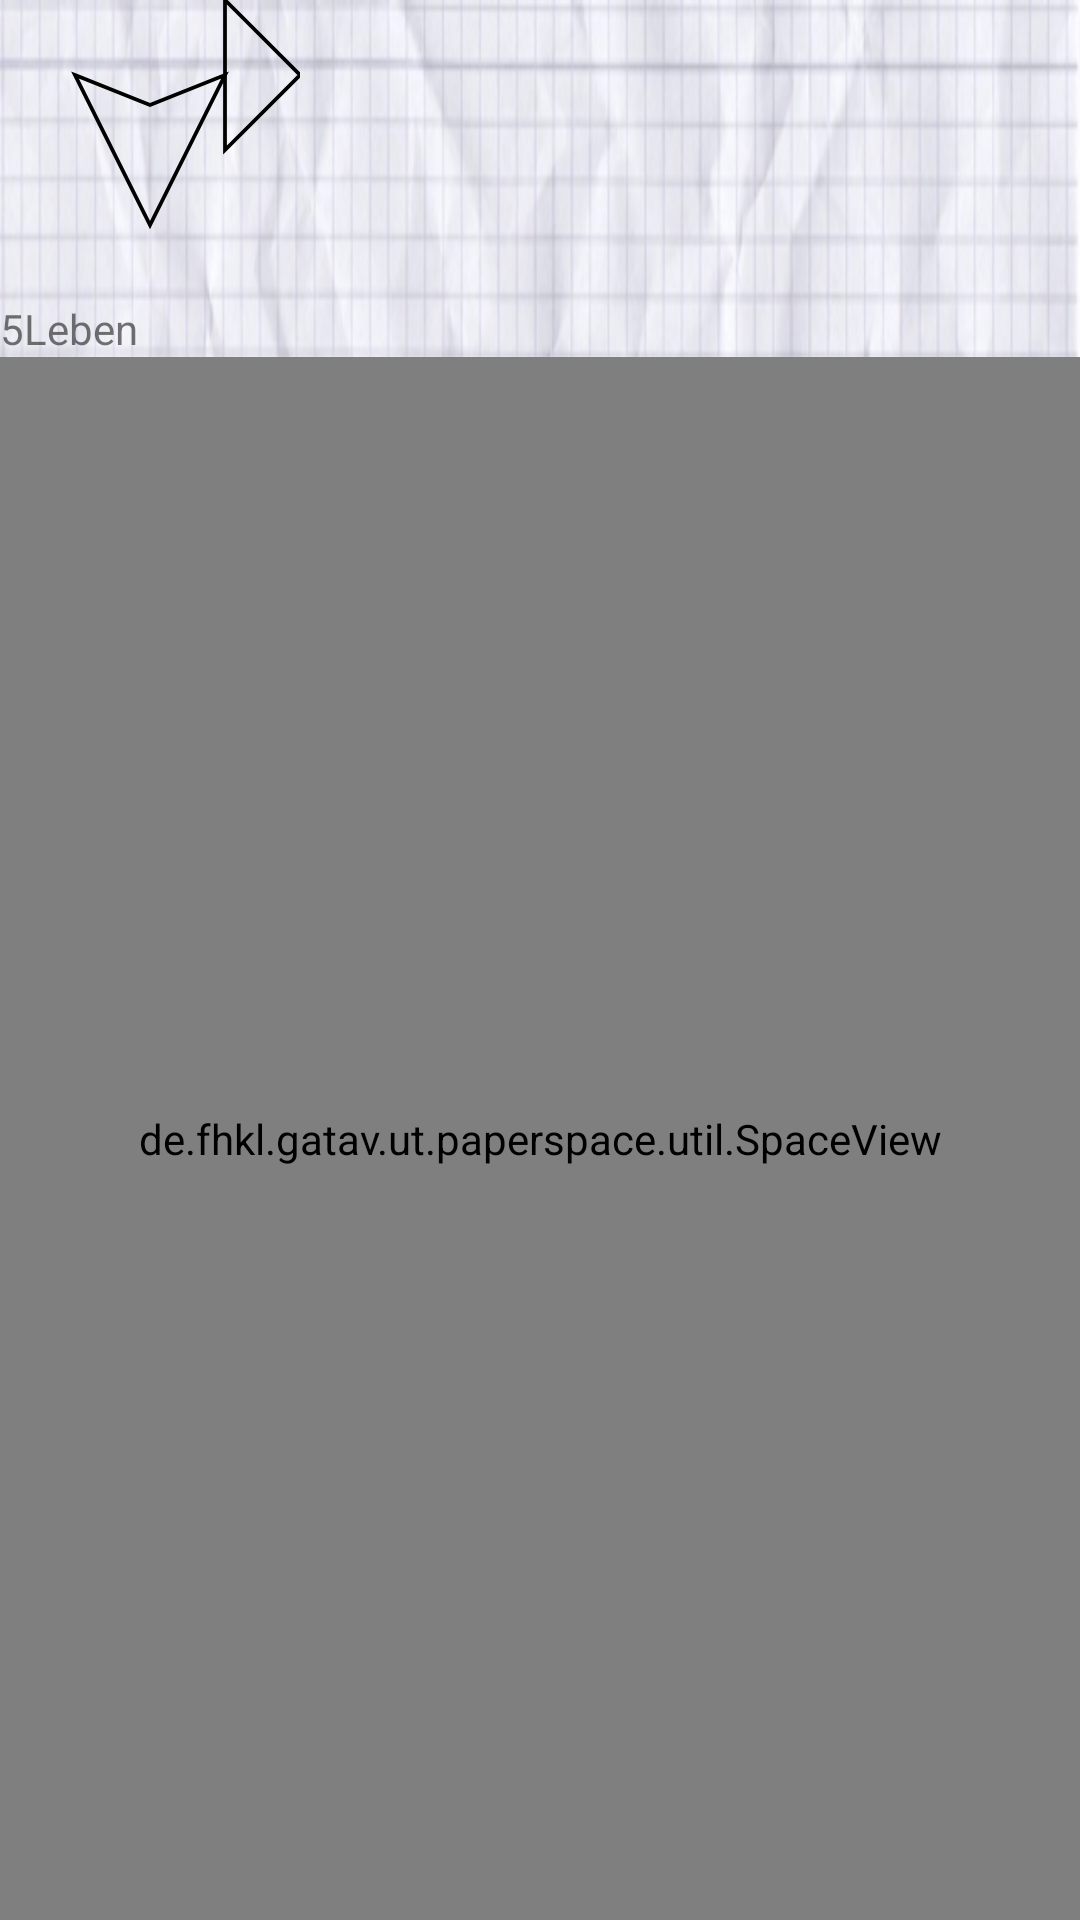

Named icons in this screenshot (1080 x 1920) and their centers, point (x, y):
spaceship: point (150, 148)
